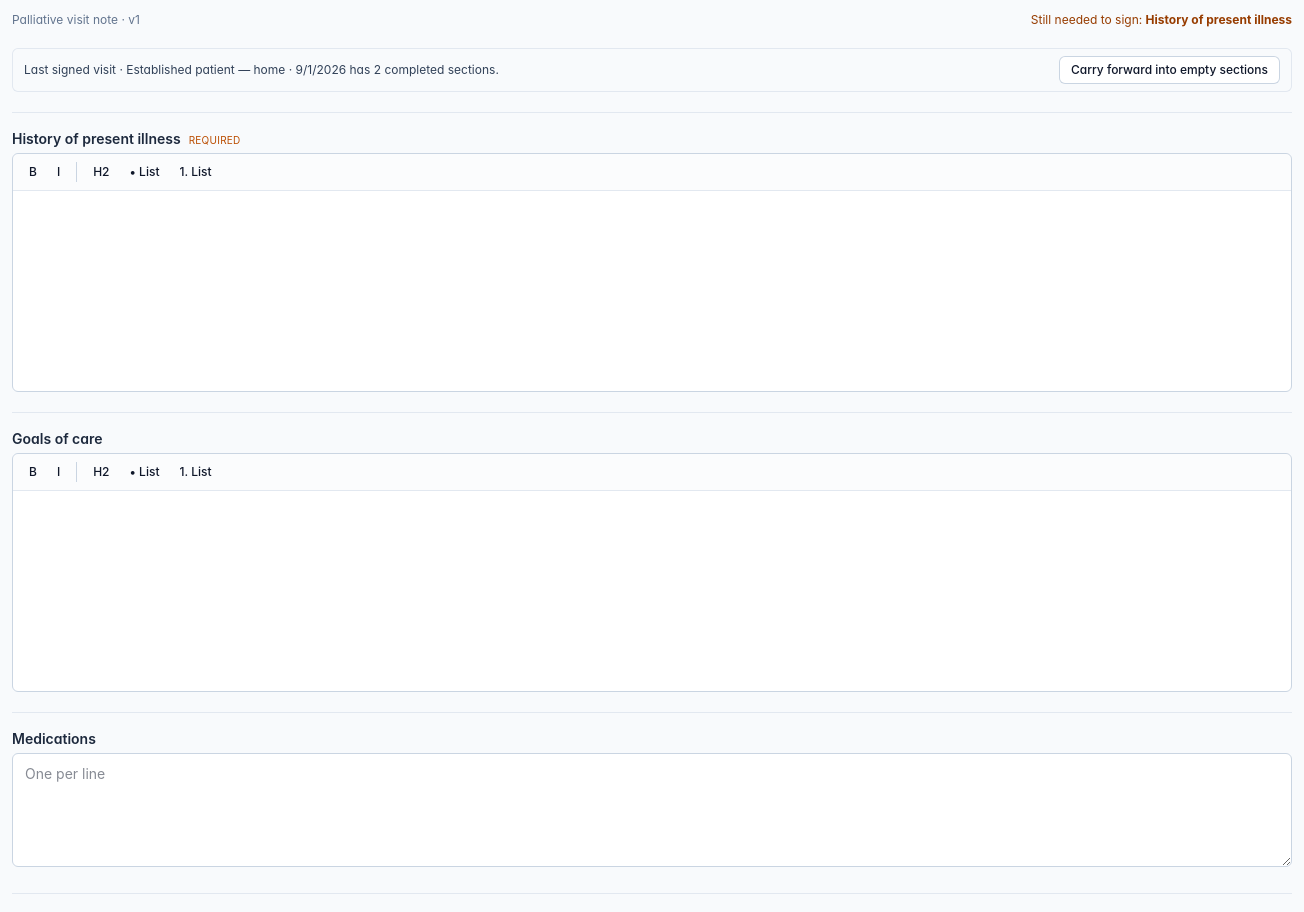
Scenario: SectionedNote — carry forward (regression) › marks a carried section as unedited until it is changed
The image size is (1304, 912).
Step 1. Click the button "Carry forward into empty sections" → coordinates (1170, 70), box [1059,56,1280,84]
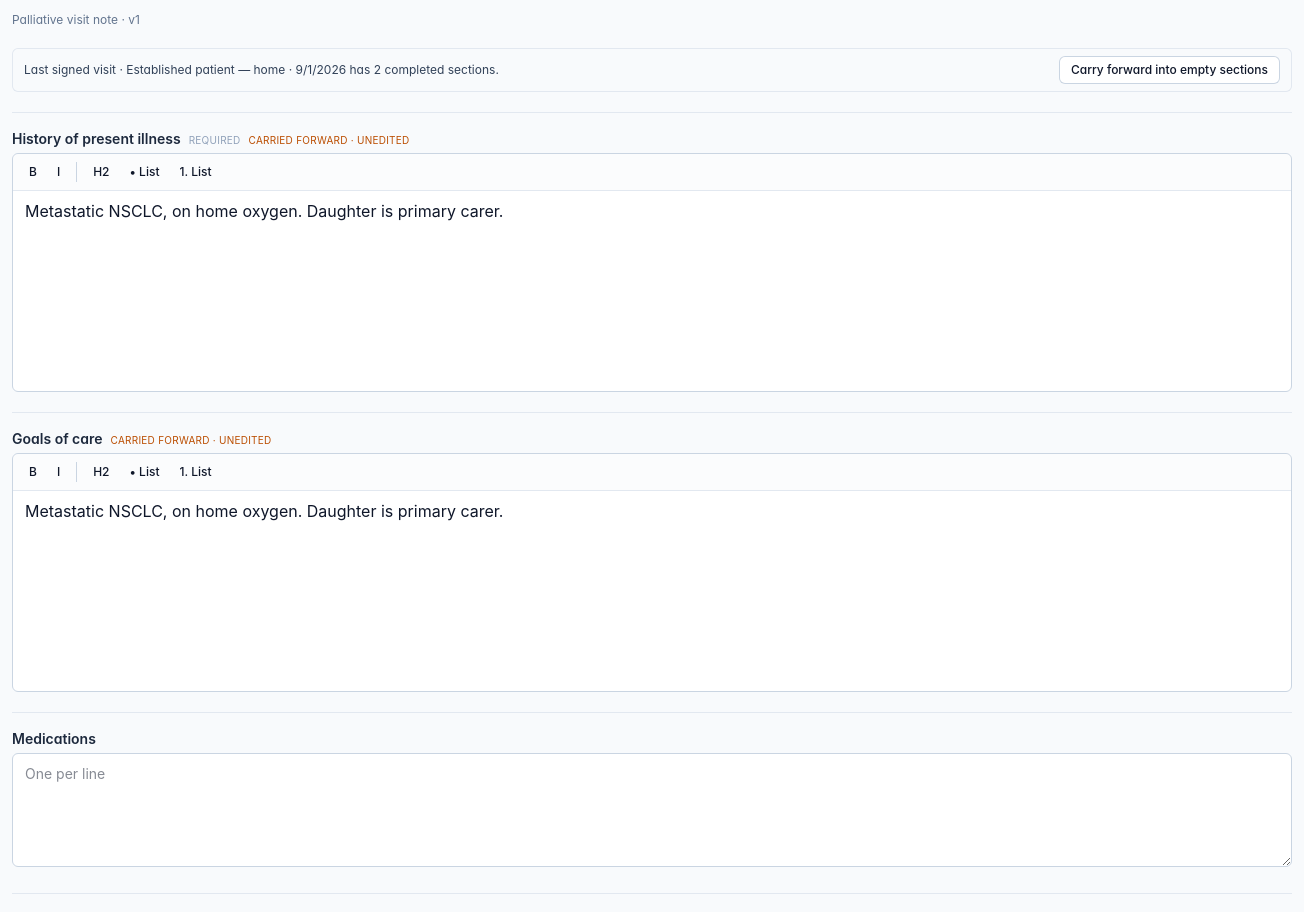
Check: the text "carried forward · unedited" is shown 2 times, box [248,133,410,148]; [110,433,272,448]
